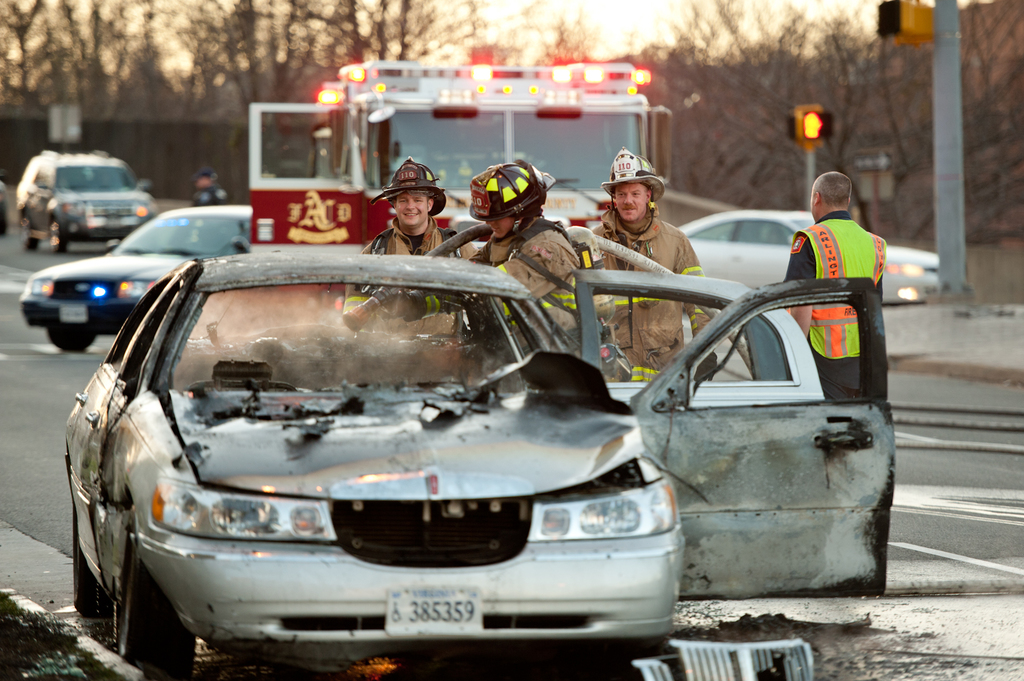Car: (59, 243, 897, 641), (16, 209, 259, 349), (676, 211, 941, 304), (19, 145, 158, 251)
